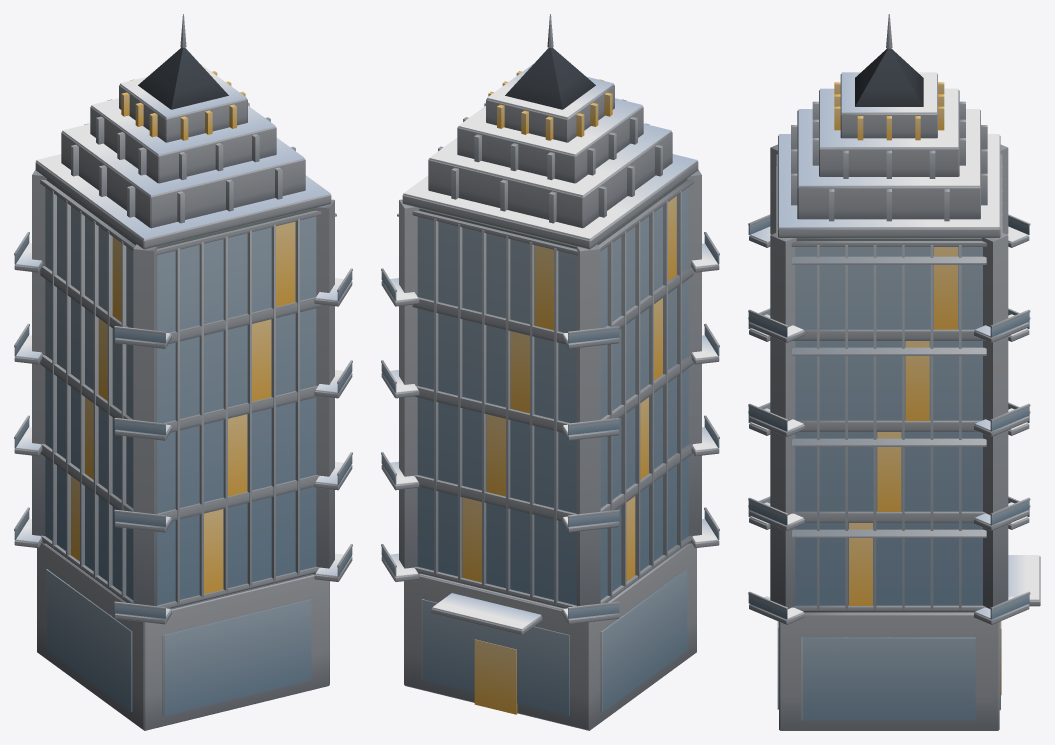
File: ck_tower_crown.fbx
The picture shows the model from 3 angles, left to right: view 1: azimuth 30°, elevation 25°; view 2: azimuth 150°, elevation 25°; view 3: azimuth 270°, elevation 25°; orthographic projection. The views are drawn at different scales.
Visible parts, largest first — view 1: ck_tower_crown; view 2: ck_tower_crown; view 3: ck_tower_crown.
Boxes of the visible parts, bbox=[...] form: ck_tower_crown: bbox=[14, 14, 352, 730]; ck_tower_crown: bbox=[381, 14, 719, 730]; ck_tower_crown: bbox=[748, 14, 1040, 730].
Size of the model in its own units: 2284 by 6000 by 2368.
